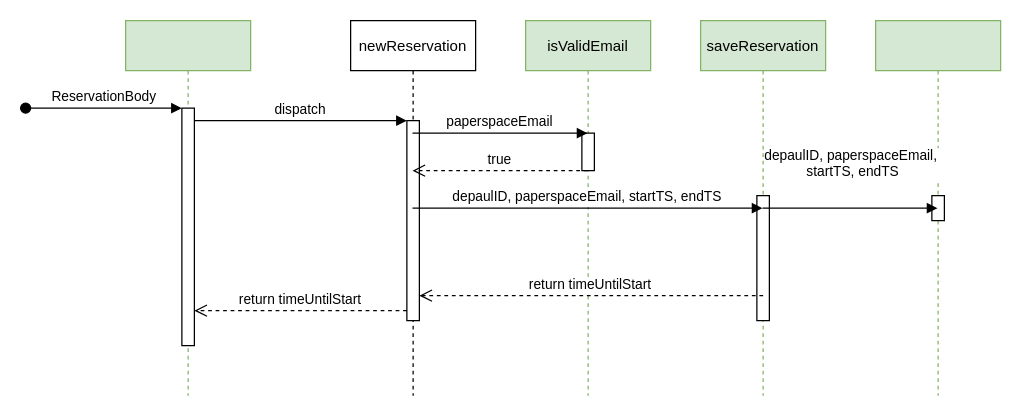
Image size: 1021x416. Some labels were removed from this diagram. The box of each missing label's shape, as (x1, y1, x2, y2) in pixels:
POST /reservation/new: (124, 19, 251, 396)
SQLite t_reservations: (874, 19, 1001, 396)
